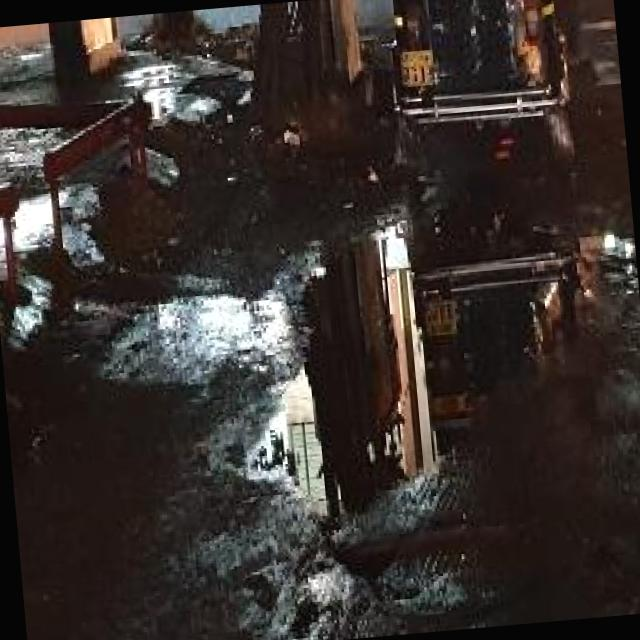stagnation: (81, 195, 614, 551)
